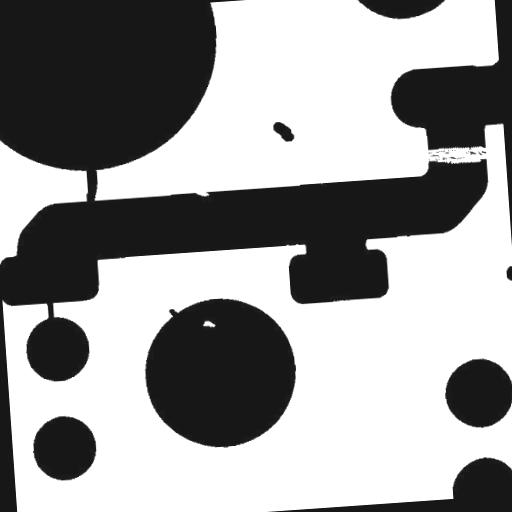copper: (265, 113, 302, 150)
mousebite: (188, 182, 217, 204)
open: (417, 136, 500, 173)
pin-hole: (194, 312, 222, 336)
short: (76, 155, 107, 214), (37, 292, 63, 336)
spur: (160, 300, 190, 328)
